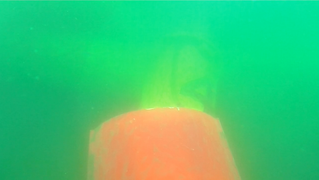4: (183, 76, 216, 117)
leak: (85, 106, 241, 180)
pipe: (1, 32, 153, 95), (137, 26, 214, 112)
